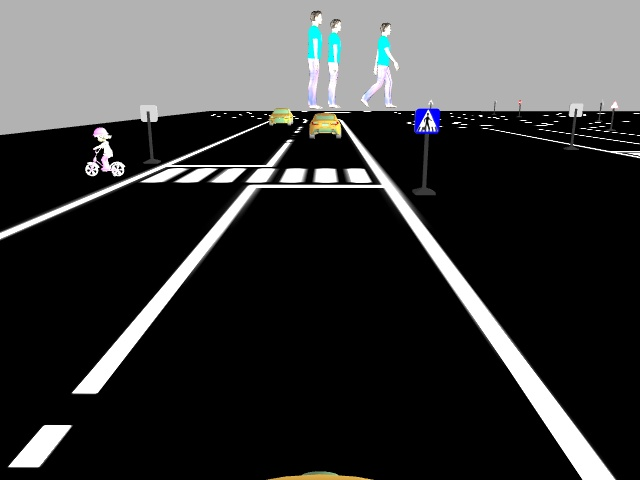Crosswalk: (412, 109, 439, 134)
Pedestrian: (83, 125, 126, 177)
